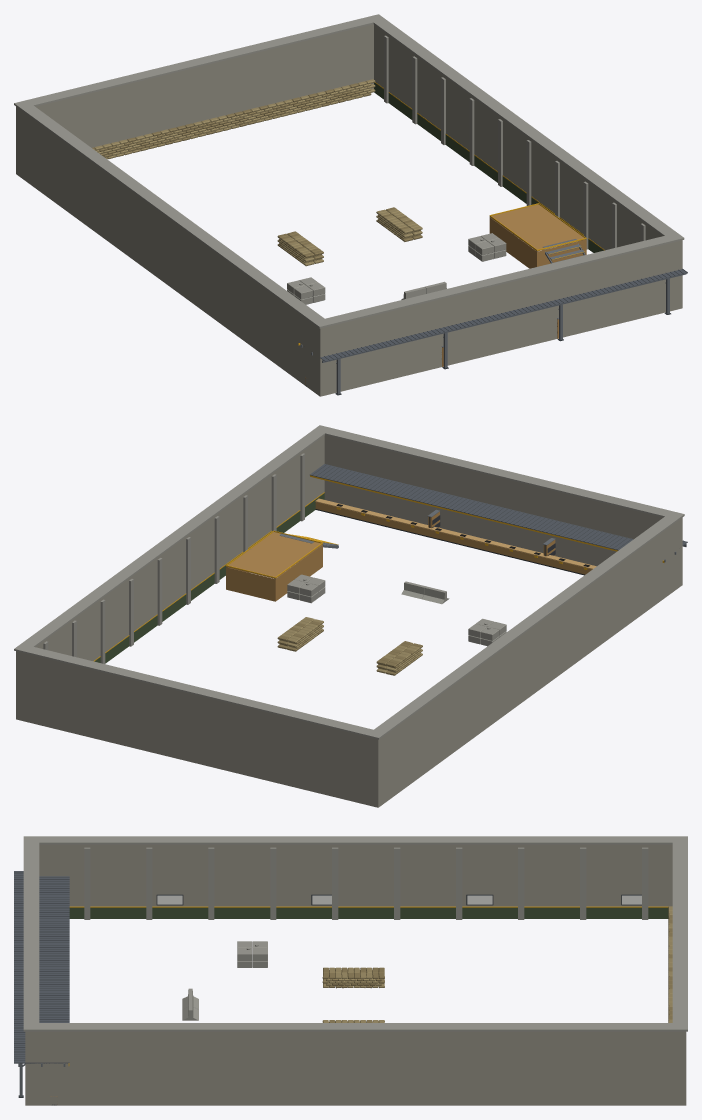
Rendered from gr-range.glb.
The picture shows the model from 3 angles, top to bottom: view 1: azimuth 30°, elevation 25°; view 2: azimuth 150°, elevation 25°; view 3: azimuth 270°, elevation 25°; orthographic projection. The views are drawn at different scales.
Parts seen in each view (by area): view 1: gr-range; view 2: gr-range; view 3: gr-range.
Part boxes in pixels (<box>): gr-range: <box>14,14,687,396</box>; gr-range: <box>14,425,687,807</box>; gr-range: <box>14,836,687,1105</box>.
Size of the model in its own units: 44.4 by 8.2 by 65.25.
